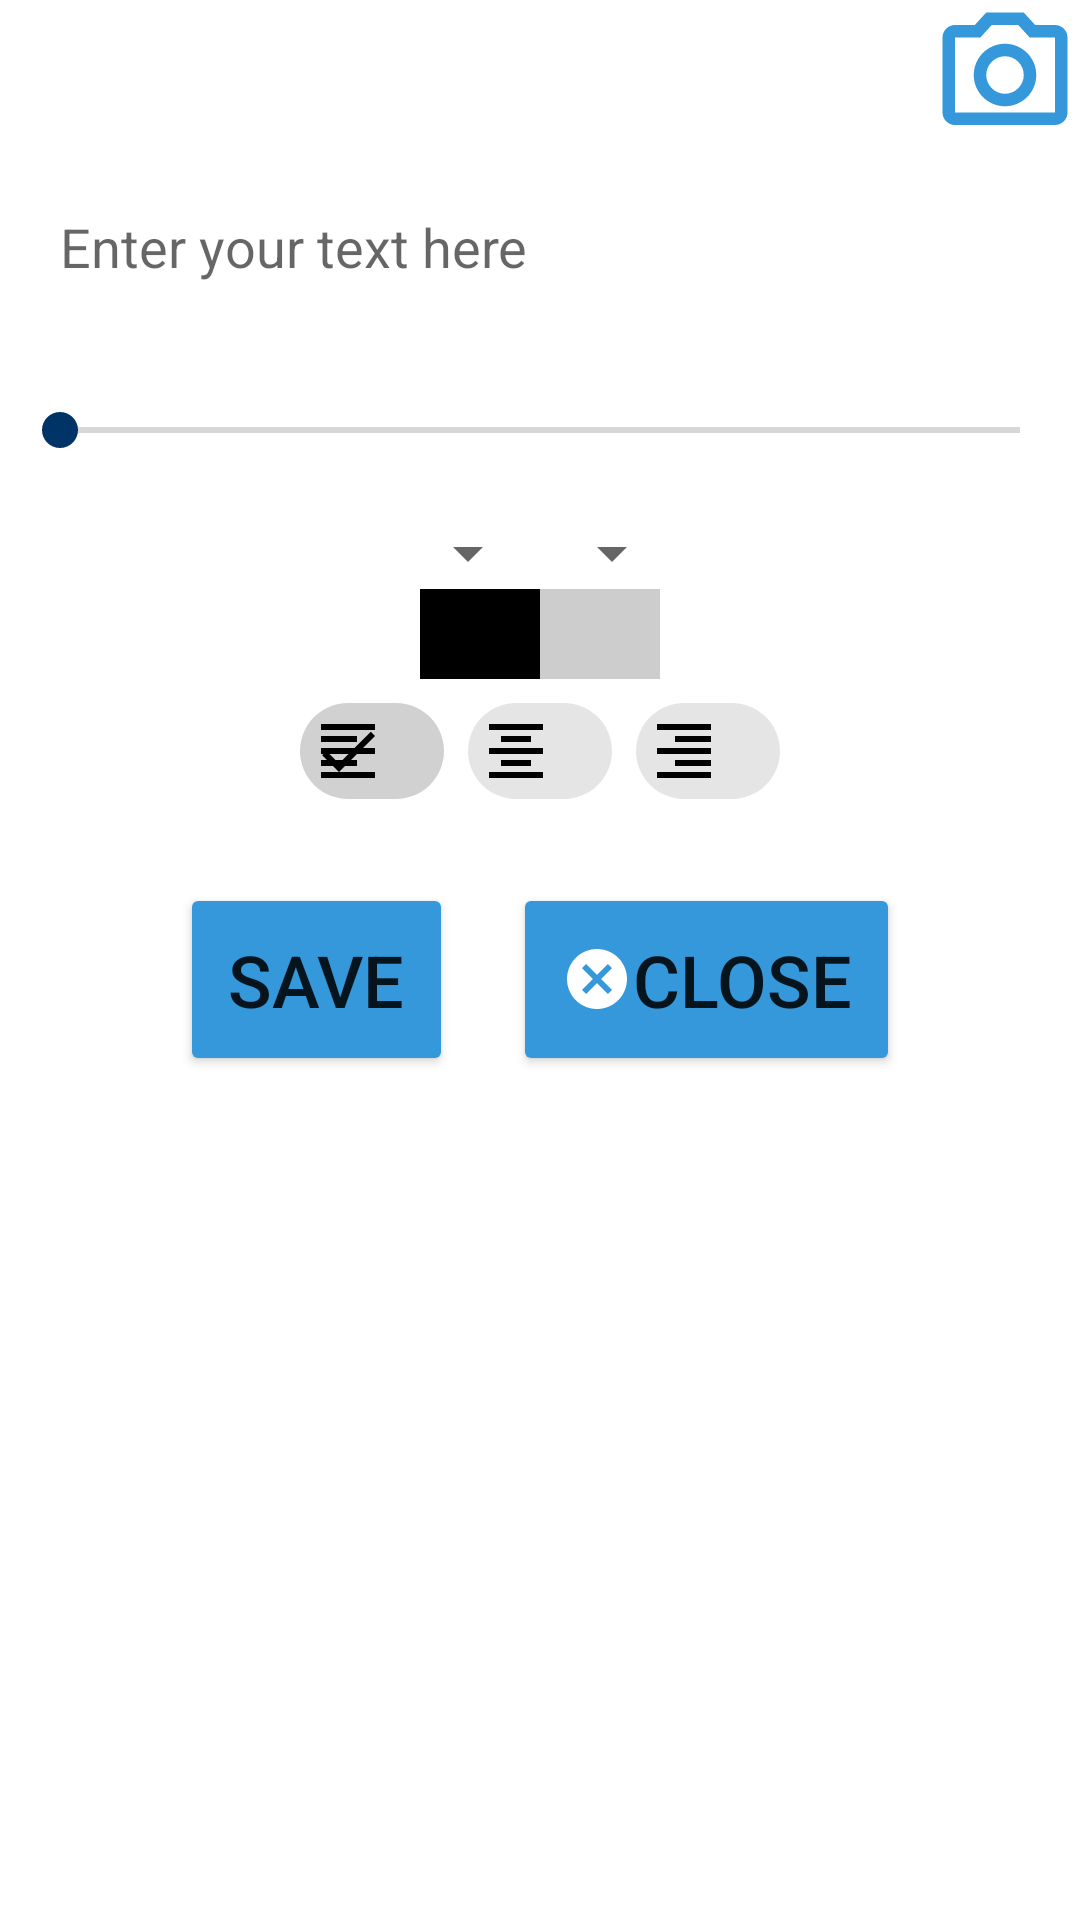

Where to tap for icons on this 1080 x 1920 app screen, as (x,y):
camera: (1005,68)
